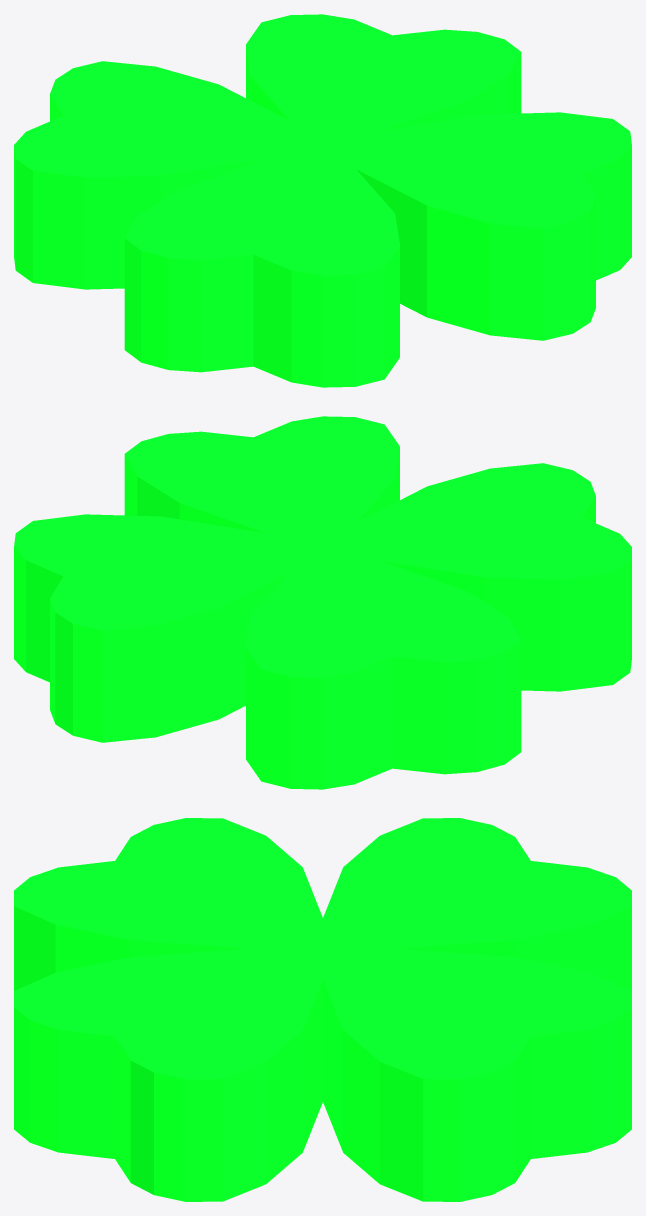
The model's file is clover4.glb.
3 views of the same model, one above another, from view 1: azimuth 30°, elevation 25°; view 2: azimuth 150°, elevation 25°; view 3: azimuth 270°, elevation 25° (orthographic). The views are drawn at different scales.
Visible parts, largest first — view 1: Cylinder.001; view 2: Cylinder.001; view 3: Cylinder.001.
Boxes of the visible parts, left/top/right/bottom form: Cylinder.001: left=14, top=14, right=631, bottom=387; Cylinder.001: left=14, top=416, right=631, bottom=789; Cylinder.001: left=14, top=818, right=631, bottom=1201.
Size of the model in its own units: 0.4568 by 0.1 by 0.4568.
